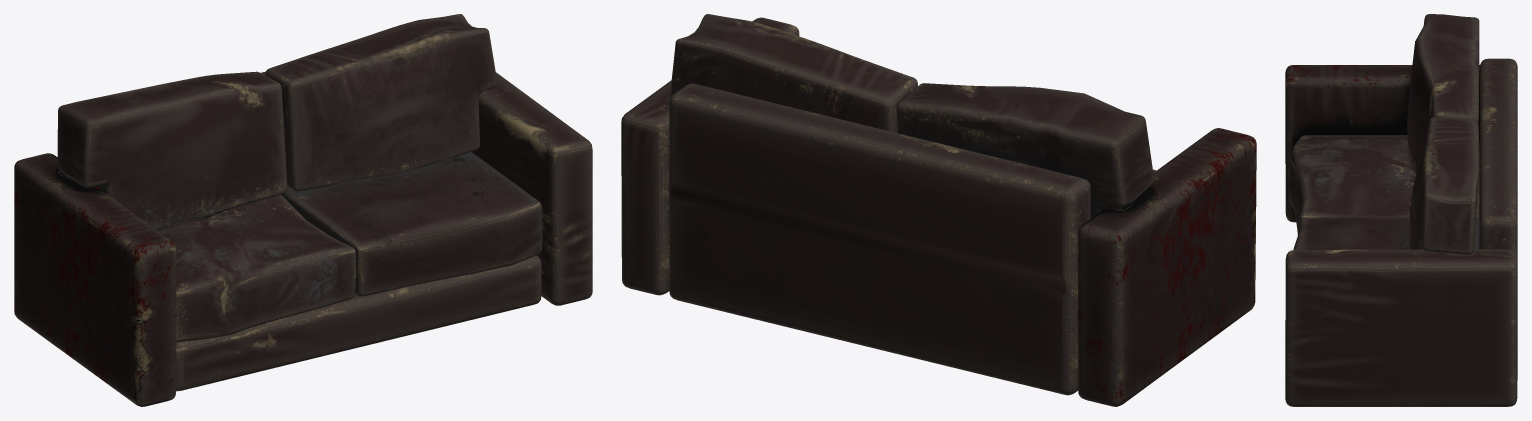
File: sofa_old.glb
3 views of the same model, side by side, from view 1: azimuth 30°, elevation 25°; view 2: azimuth 150°, elevation 25°; view 3: azimuth 270°, elevation 25° (orthographic). The views are drawn at different scales.
Parts seen in each view (by area): view 1: sofa_old; view 2: sofa_old; view 3: sofa_old.
Part boxes in pixels (left/top/right/bottom): sofa_old: left=14, top=14, right=592, bottom=406; sofa_old: left=621, top=14, right=1256, bottom=406; sofa_old: left=1285, top=14, right=1517, bottom=406.
Bounding box in the file's own units: 2 × 0.9587 × 0.9692.
Materials: 7 (7 with a texture image).
